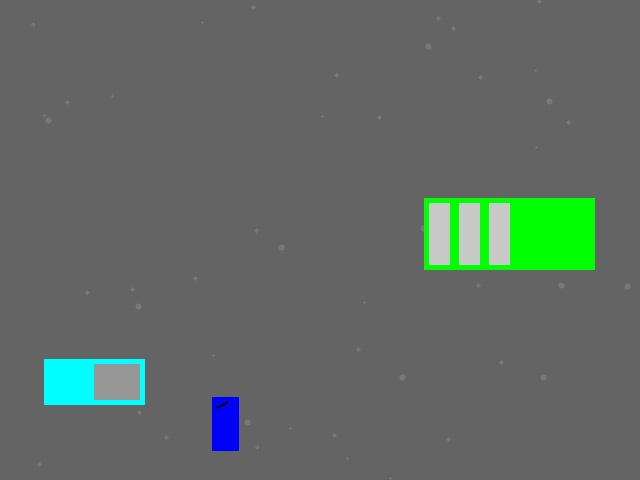bus: (424, 198, 594, 269)
motorcycle: (212, 397, 238, 450)
truck: (44, 359, 144, 404)
